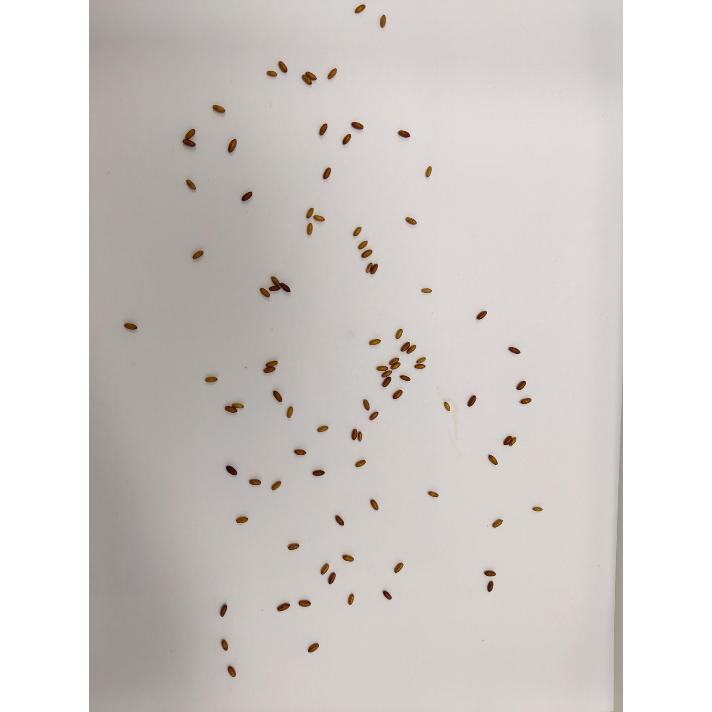pupae: (223, 139, 242, 155), (258, 286, 274, 303), (208, 104, 229, 115), (221, 404, 240, 416), (224, 464, 240, 478), (280, 280, 294, 295), (302, 70, 319, 82), (397, 340, 411, 354), (239, 190, 254, 203), (182, 128, 198, 140), (181, 140, 197, 152), (514, 380, 528, 393), (300, 73, 313, 87), (507, 436, 520, 450), (274, 602, 292, 612), (500, 433, 513, 446), (321, 167, 333, 181), (360, 248, 374, 260), (490, 518, 504, 530), (306, 642, 320, 654), (334, 514, 346, 528), (272, 390, 284, 404), (234, 515, 250, 525), (231, 401, 247, 411), (277, 60, 289, 73), (487, 454, 499, 467), (368, 497, 380, 510), (186, 178, 198, 191), (426, 488, 440, 499), (326, 571, 336, 586), (285, 404, 295, 419), (326, 68, 338, 80), (304, 223, 316, 235), (392, 562, 404, 574), (381, 589, 393, 601), (319, 563, 331, 575), (270, 479, 282, 491), (368, 410, 380, 422), (405, 344, 417, 356), (270, 274, 282, 286), (350, 122, 364, 132), (342, 132, 352, 146), (356, 240, 370, 250), (467, 394, 477, 408), (485, 580, 495, 594), (346, 592, 356, 606), (286, 542, 300, 552), (219, 603, 229, 617), (391, 390, 405, 400), (190, 250, 204, 260), (305, 206, 315, 219), (264, 70, 280, 78), (311, 468, 327, 476), (204, 376, 220, 384), (262, 366, 278, 374), (124, 322, 138, 331), (397, 130, 412, 138), (423, 166, 433, 178), (476, 310, 488, 320), (226, 666, 236, 678), (382, 376, 392, 388), (394, 328, 404, 340), (378, 14, 387, 27), (317, 424, 330, 433), (320, 123, 328, 137), (404, 218, 418, 226), (312, 215, 326, 223), (507, 346, 521, 354), (518, 398, 532, 406), (483, 570, 497, 578), (298, 599, 312, 607), (341, 554, 355, 562), (220, 638, 228, 652), (248, 479, 262, 487), (294, 449, 308, 457), (353, 460, 367, 468), (265, 360, 279, 368), (362, 398, 370, 412), (380, 370, 394, 378), (368, 338, 382, 346), (354, 4, 366, 13), (387, 357, 400, 365), (269, 285, 282, 293), (353, 226, 363, 236), (369, 264, 379, 274), (442, 402, 451, 413), (365, 262, 373, 274), (532, 506, 544, 514), (399, 374, 411, 382), (390, 362, 402, 370), (416, 356, 427, 364), (420, 288, 434, 294), (352, 428, 358, 442), (377, 366, 389, 372), (414, 364, 426, 370), (357, 432, 363, 442)
